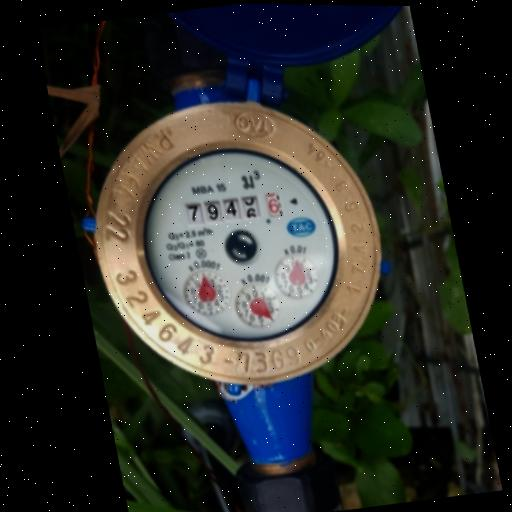5: (224, 198, 241, 221)
6: (265, 192, 283, 217), (243, 195, 261, 219)
7: (185, 203, 205, 225)
9: (205, 200, 223, 224)
border_water_meter_number: (182, 189, 285, 230)
